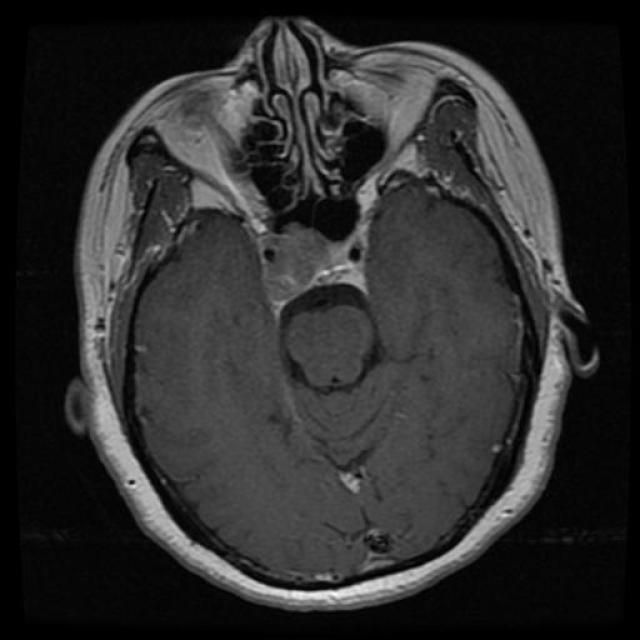pituitary: (268, 286, 376, 398)
